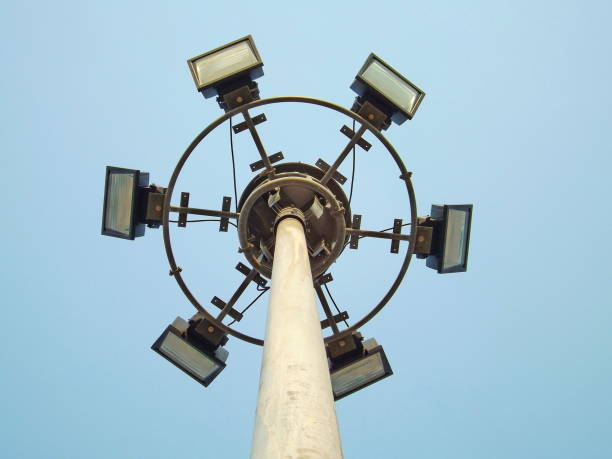light_pole: (250, 216, 346, 458)
